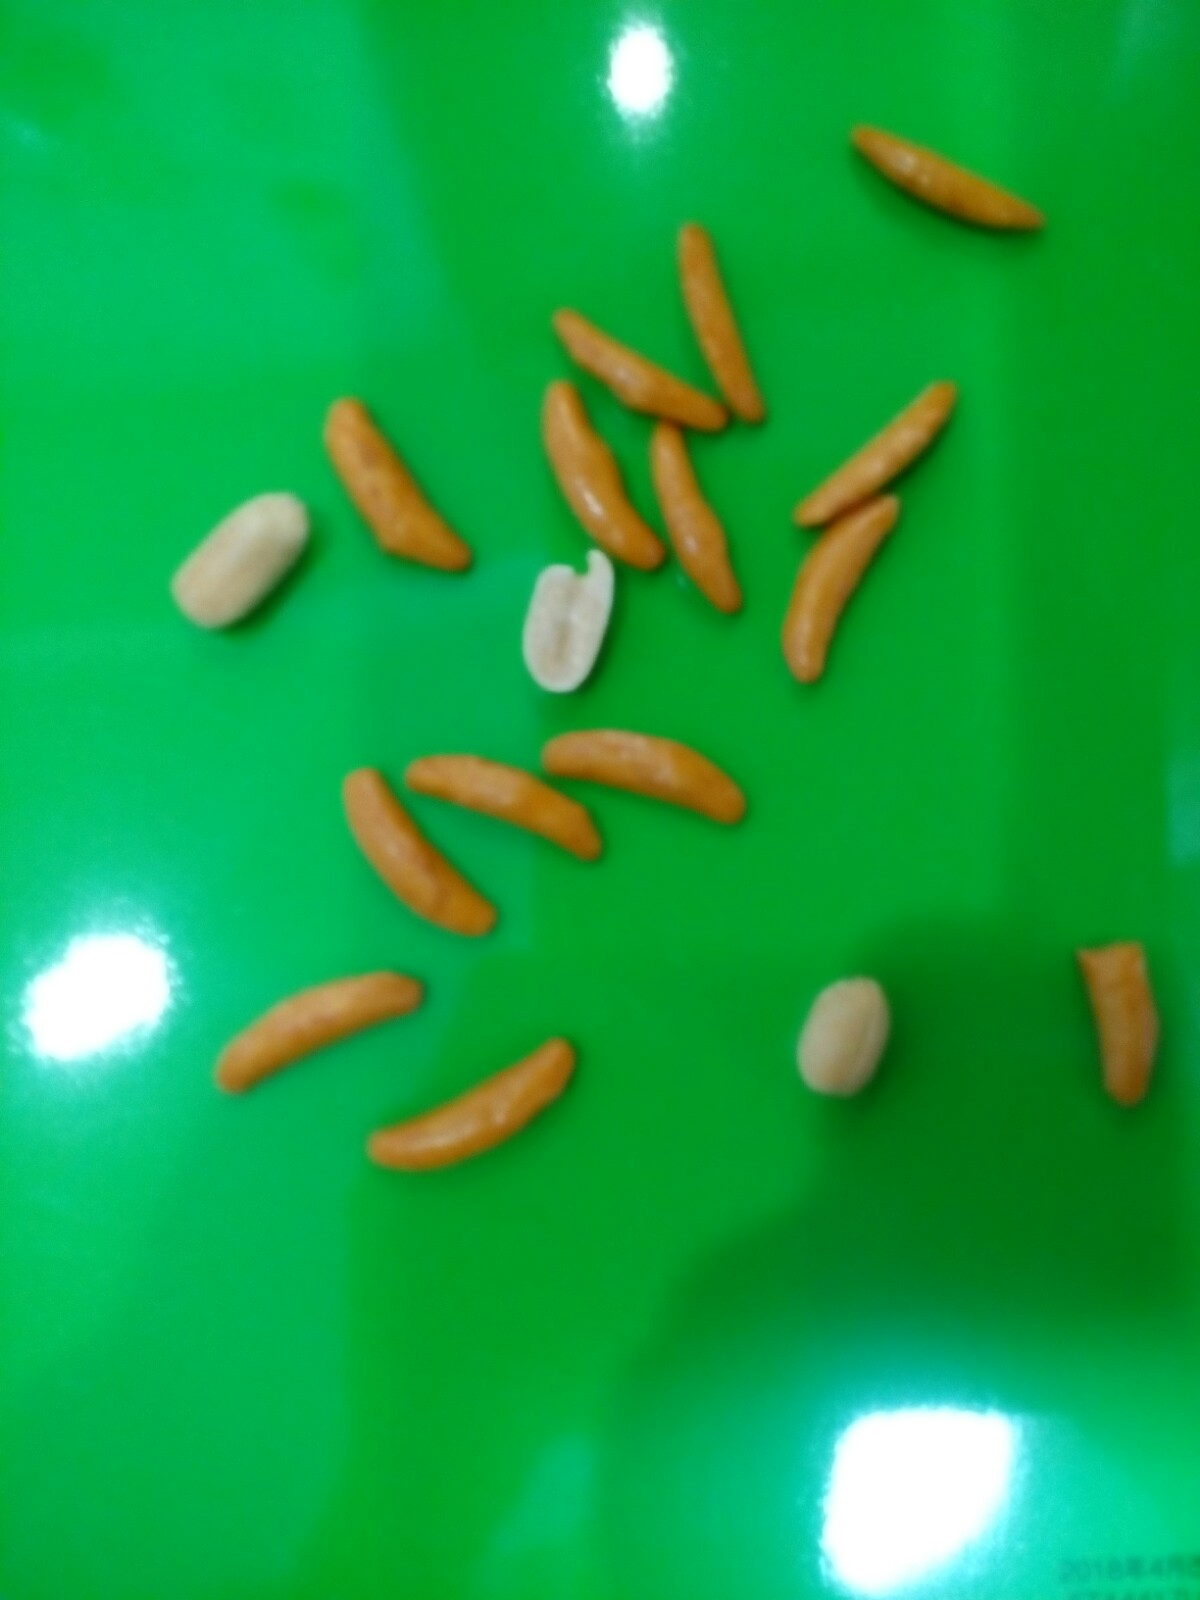peanut: (169, 476, 318, 629), (514, 542, 633, 706), (792, 973, 905, 1110)
